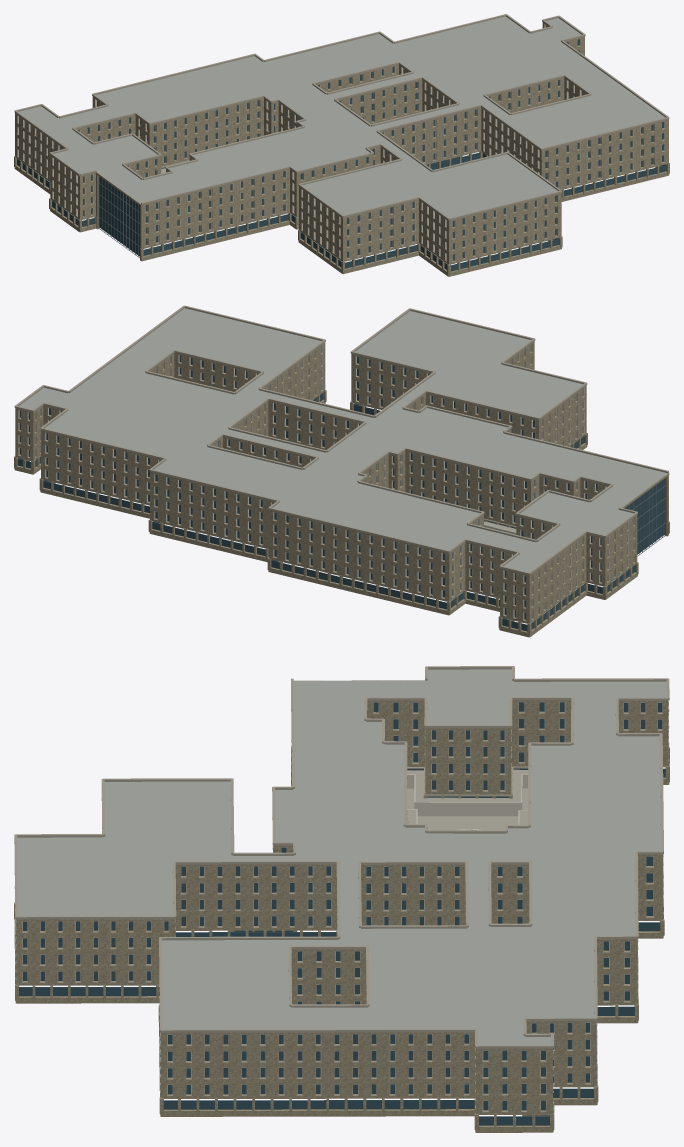
The model's file is zonghe.glb.
3 views of the same model, one above another, from view 1: azimuth 30°, elevation 25°; view 2: azimuth 150°, elevation 25°; view 3: azimuth 270°, elevation 25° (orthographic). The views are drawn at different scales.
Visible parts, largest first — view 1: roof, wall, trim, glass, window_reveals, metal; view 2: roof, wall, trim, glass, window_reveals, metal; view 3: roof, wall, glass, trim, window_reveals, court_wall, paving, court_terrace.
Part boxes in pixels (box(x1,y1,x2,y2)): roof: box(19, 16, 665, 217); wall: box(14, 22, 669, 276); trim: box(14, 14, 669, 262); glass: box(17, 39, 666, 271); window_reveals: box(17, 24, 664, 261); metal: box(98, 176, 139, 257); roof: box(19, 308, 667, 572); wall: box(14, 341, 669, 637); trim: box(14, 305, 668, 621); glass: box(17, 355, 665, 631); window_reveals: box(18, 344, 634, 619); metal: box(626, 478, 665, 556); roof: box(17, 669, 666, 1045); wall: box(14, 680, 669, 1132); glass: box(19, 702, 665, 1125); trim: box(14, 666, 669, 1112); window_reveals: box(22, 702, 662, 1111); court_wall: box(407, 774, 527, 824); paving: box(407, 788, 527, 830); court_terrace: box(407, 769, 528, 824).
Bounding box in the file's own units: 154 × 16.34 × 112.
Materials: 9 (1 with a texture image).
